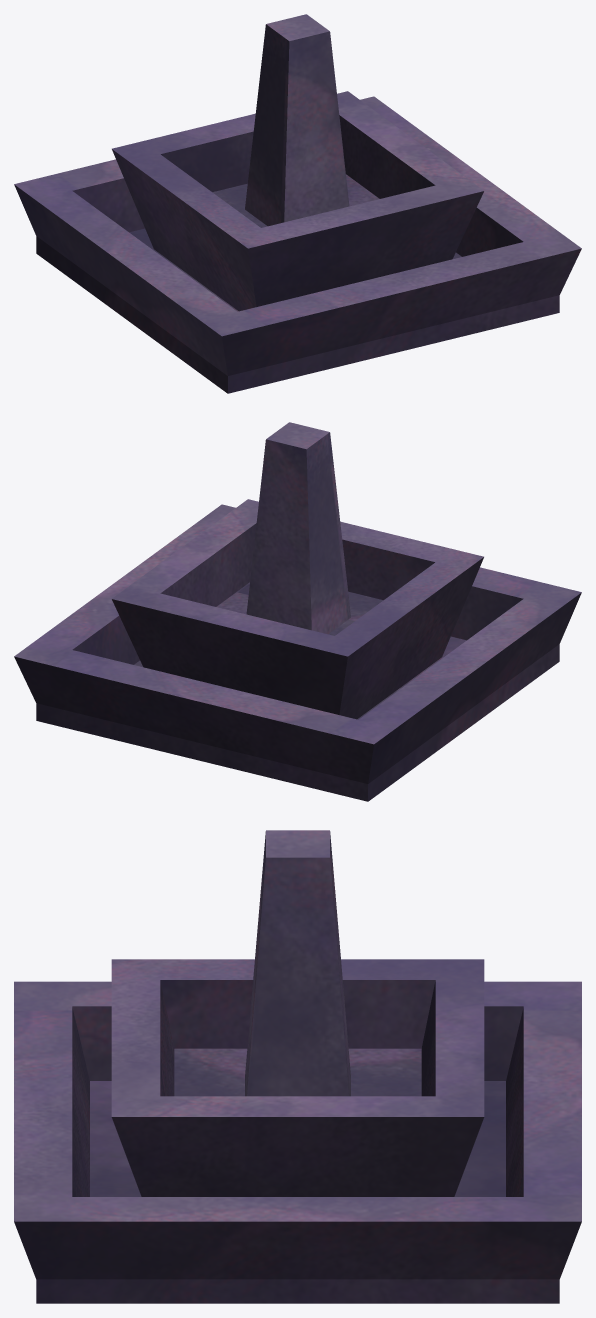
File: Fountain.fbx
3 renders of one model, top to bottom at view 1: azimuth 30°, elevation 25°; view 2: azimuth 150°, elevation 25°; view 3: azimuth 270°, elevation 25°, orthographic. The views are drawn at different scales.
Visible parts, largest first — view 1: pCube729; view 2: pCube729; view 3: pCube729.
Part boxes in pixels (left/top/right/bottom): pCube729: left=14, top=14, right=581, bottom=393; pCube729: left=14, top=422, right=581, bottom=801; pCube729: left=14, top=830, right=581, bottom=1303.
Size of the model in its own units: 4.34 by 2.94 by 4.34.
